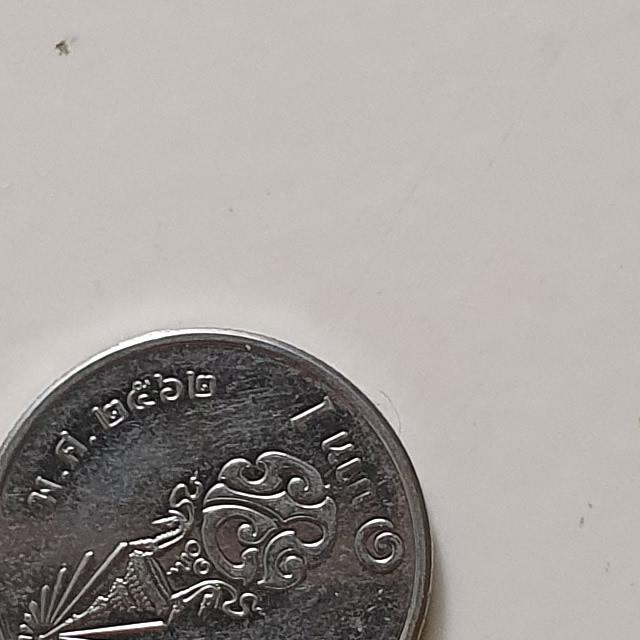1 Bath: (1, 312, 444, 640)
